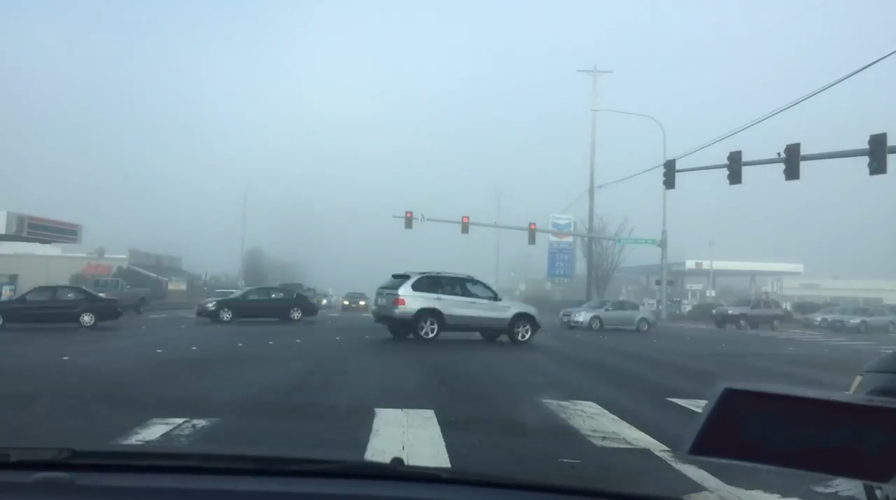car: (373, 267, 544, 344), (1, 283, 124, 329), (195, 283, 320, 323), (556, 295, 658, 333), (76, 277, 154, 317), (710, 296, 790, 330), (803, 301, 868, 330), (842, 303, 896, 334), (340, 290, 370, 312), (309, 288, 332, 309)
